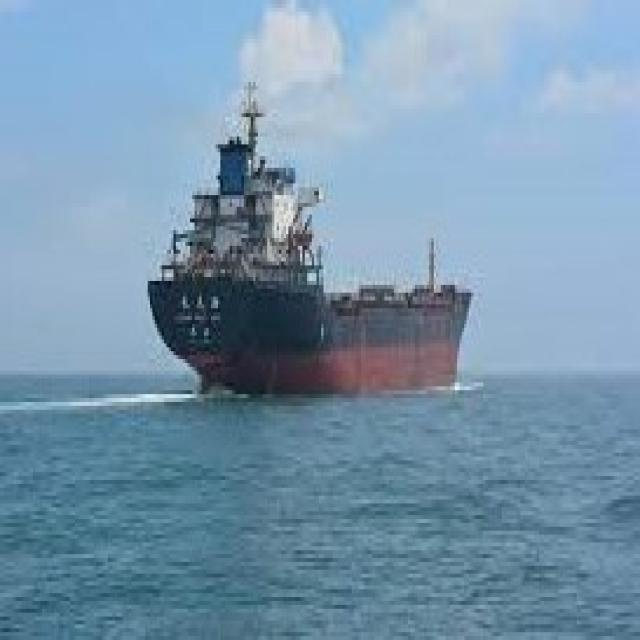cargoship: (145, 88, 480, 406)
